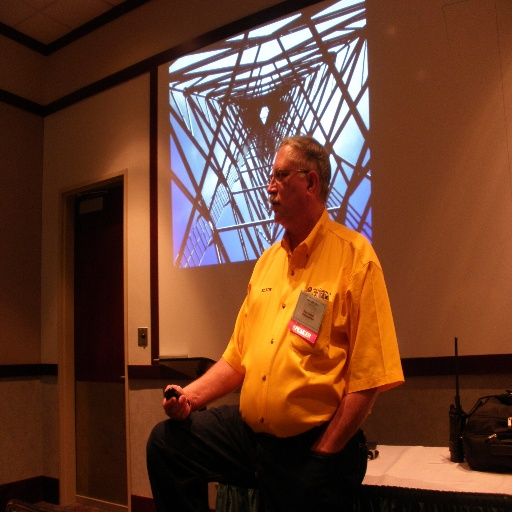hand: (160, 380, 209, 437)
